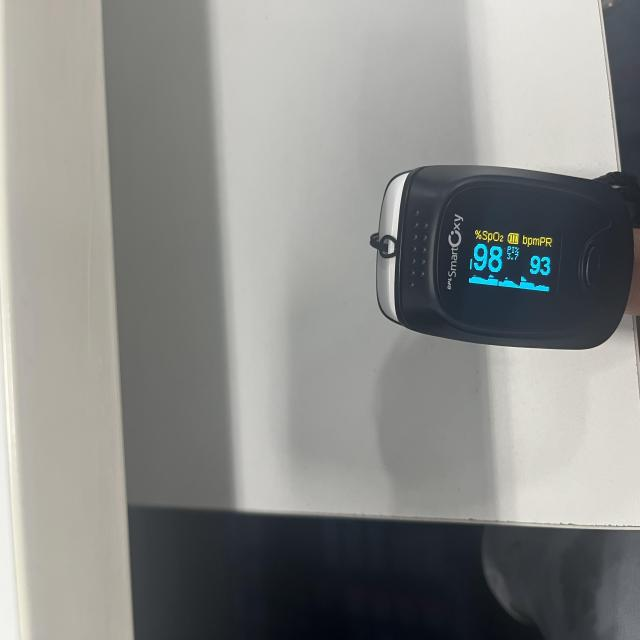spo2: (371, 167, 637, 352)
